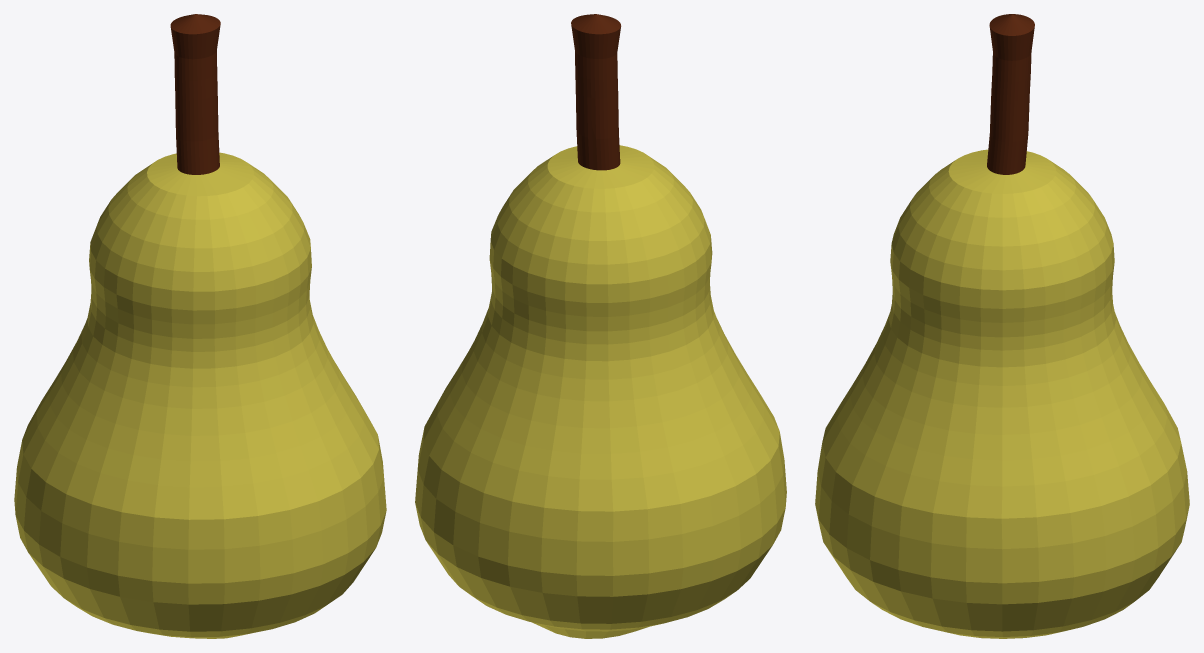
The model's file is Pear.fbx.
3 views of the same model, side by side, from view 1: azimuth 30°, elevation 25°; view 2: azimuth 150°, elevation 25°; view 3: azimuth 270°, elevation 25° (orthographic).
Visible parts, largest first — view 1: Pear; view 2: Pear; view 3: Pear.
Boxes of the visible parts, <box> form: Pear: <box>14,14,386,638</box>; Pear: <box>415,14,786,638</box>; Pear: <box>815,14,1189,638</box>.
Bounding box in the file's own units: 239 × 424 × 239.
